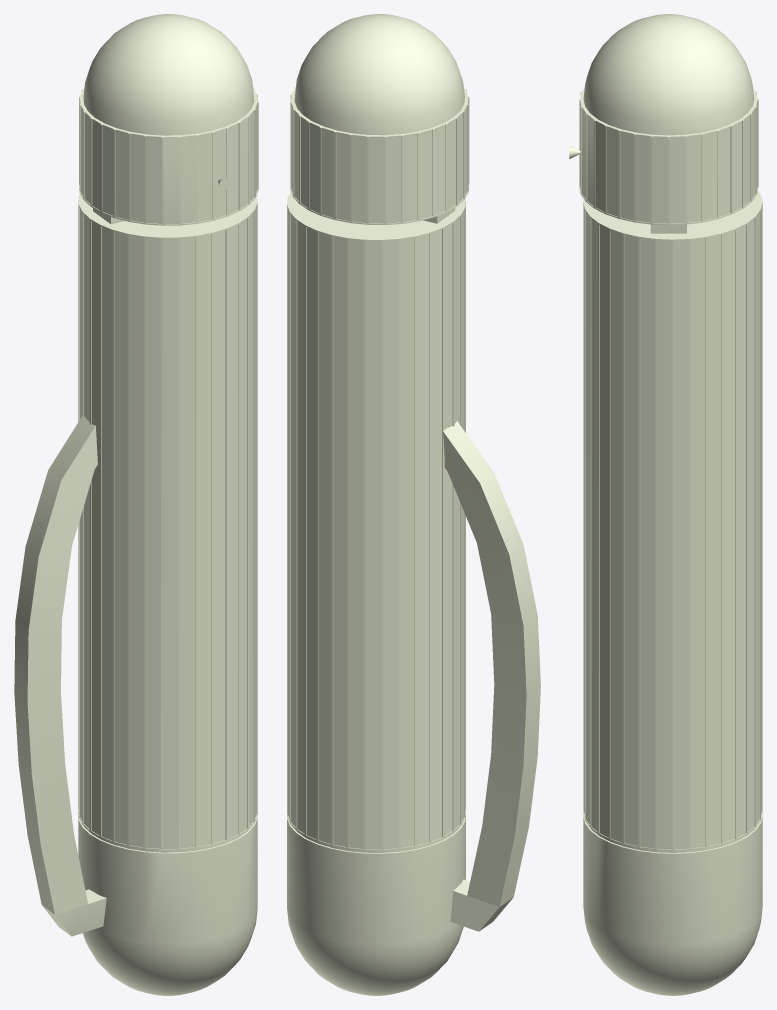
The model's file is neuralyzer.glb.
3 views of the same model, side by side, from view 1: azimuth 30°, elevation 25°; view 2: azimuth 150°, elevation 25°; view 3: azimuth 270°, elevation 25° (orthographic).
Visible parts, largest first — view 1: Sphere, Sphere.002; view 2: Sphere, Sphere.002; view 3: Sphere, Sphere.002.
Boxes of the visible parts, <box> form: Sphere: <box>14,193,257,995</box>; Sphere.002: <box>79,14,258,225</box>; Sphere: <box>287,191,540,995</box>; Sphere.002: <box>290,14,469,224</box>; Sphere: <box>583,190,762,995</box>; Sphere.002: <box>579,14,758,233</box>.
Bounding box in the file's own units: 0.5435 × 2.18 × 0.3958.
